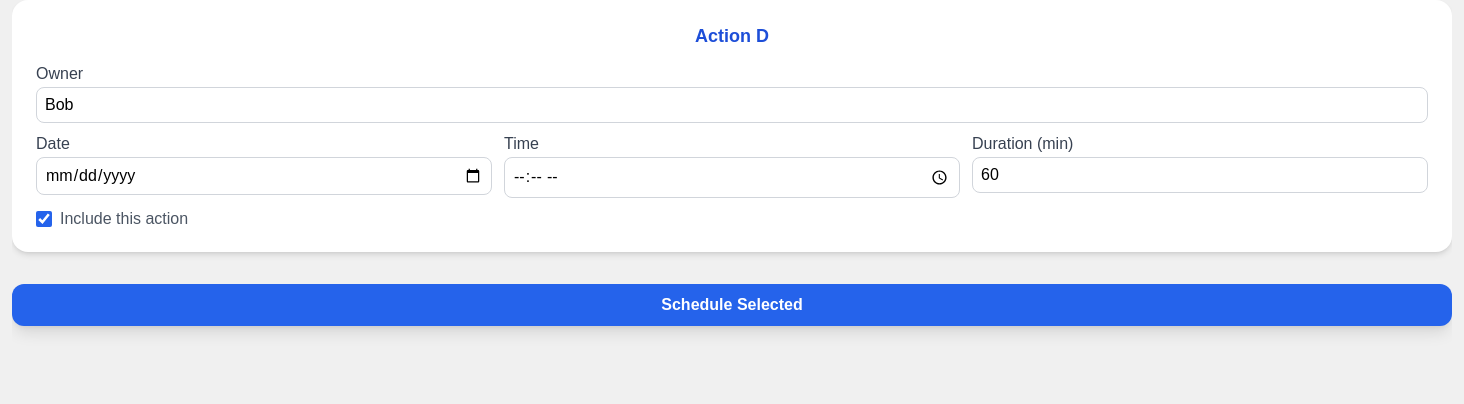
Test: ReviewPanel Component › shows error if scheduling fails (API error)
The image size is (1464, 404).
Click the button "Schedule Selected" at (732, 304), box [12,284,1452,326]
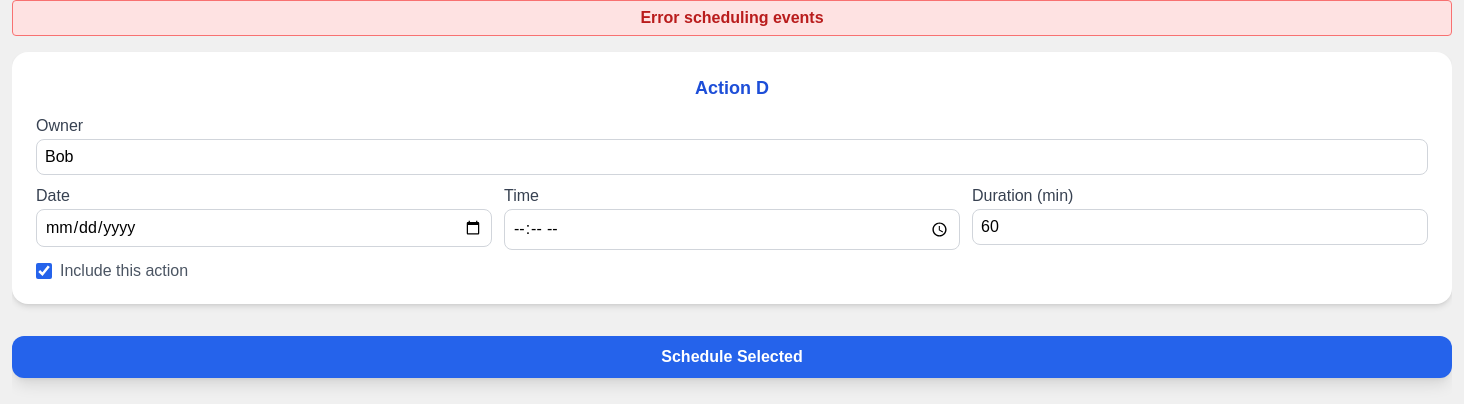
Check: the message reads "Error scheduling events", box [640,9,824,26]
